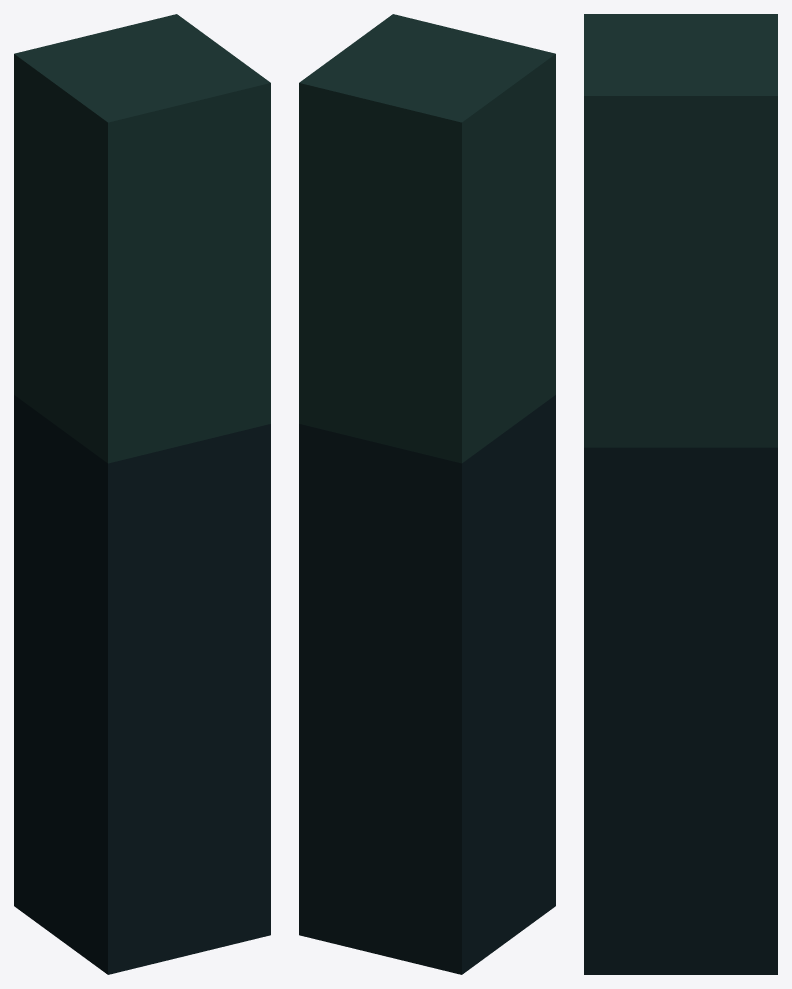
Rendered from Grass_5.obj.
The picture shows the model from 3 angles, left to right: view 1: azimuth 30°, elevation 25°; view 2: azimuth 150°, elevation 25°; view 3: azimuth 270°, elevation 25°; orthographic projection. The views are drawn at different scales.
Size of the model in its own units: 0.025 by 0.125 by 0.025.
